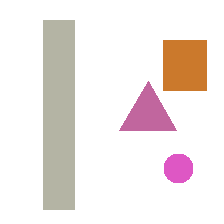circle: (164, 154, 192, 182)
rectangle: (43, 20, 74, 209), (163, 40, 206, 90)
triangle: (119, 81, 176, 130)
